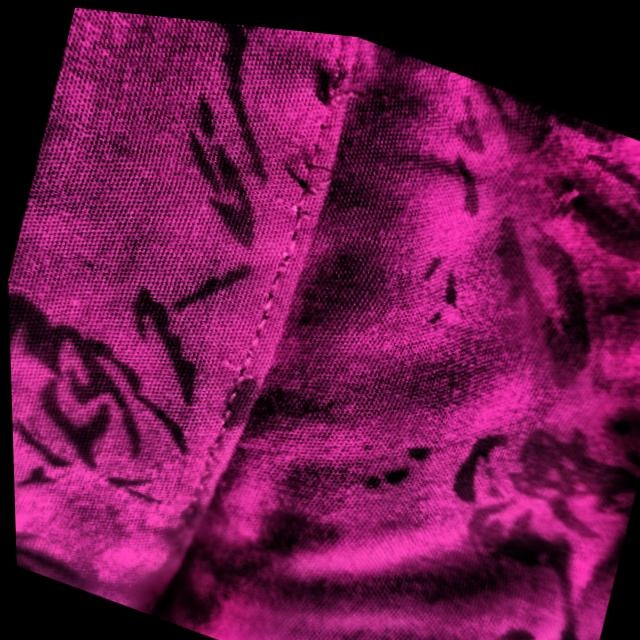Stitch: (228, 116, 389, 253), (271, 33, 396, 138)
